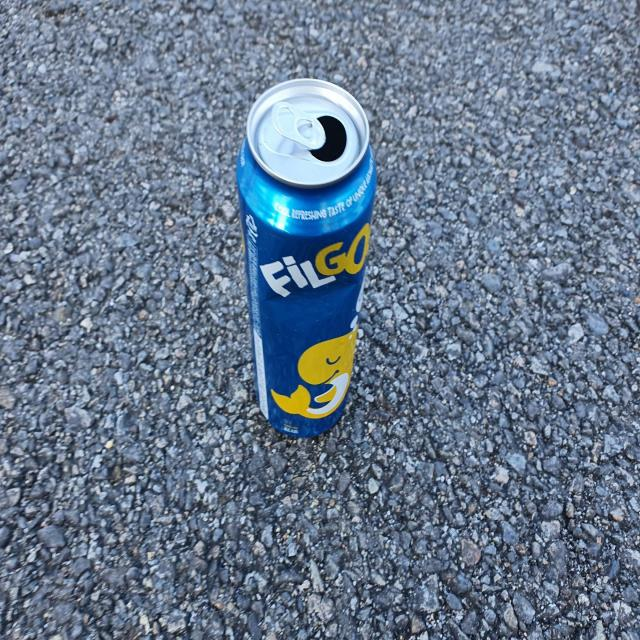can: (237, 78, 377, 437)
